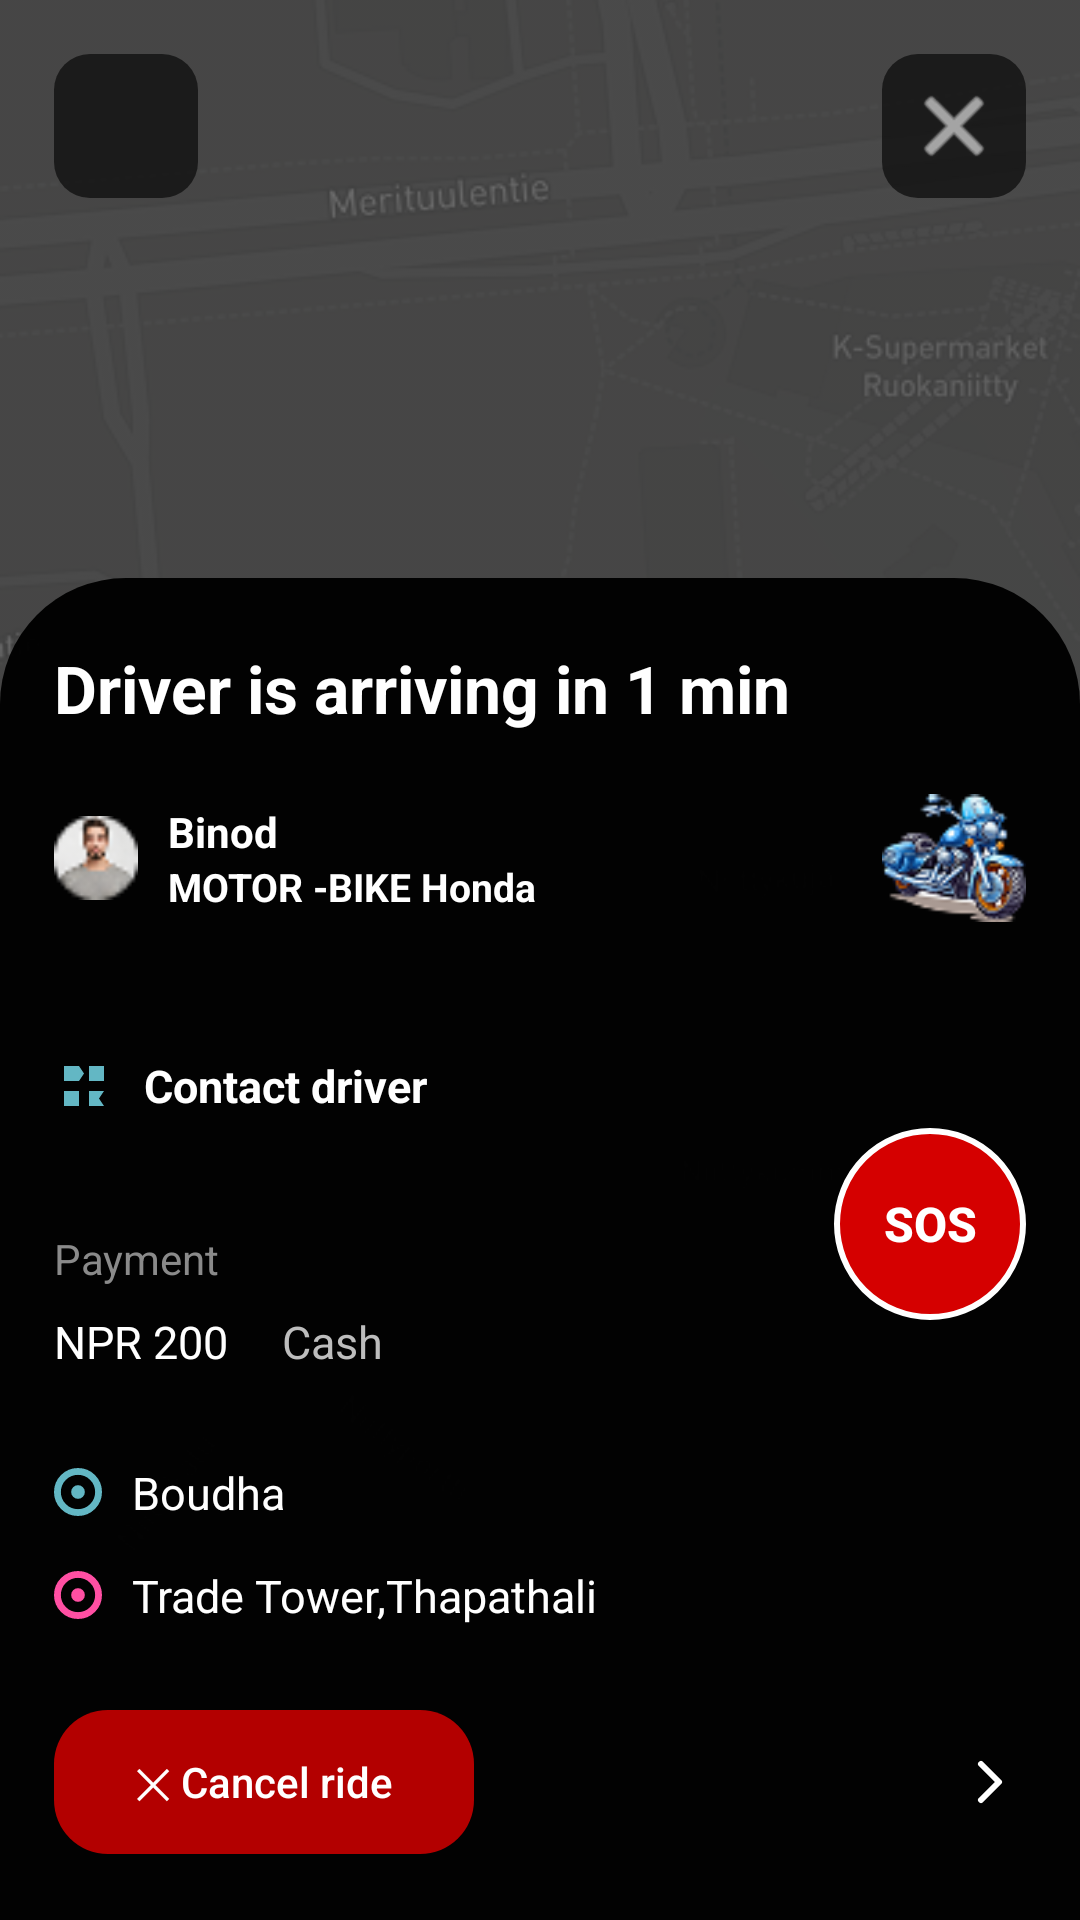

Point at icon controls on the screen. Image size 1080*1920, points as [x,y].
Close: [954,126]
Driver profile: [96,858]
Drop location: [78,1595]
Next: [990,1782]
Pickup location: [78,1492]
Selected vehicle: [954,858]
